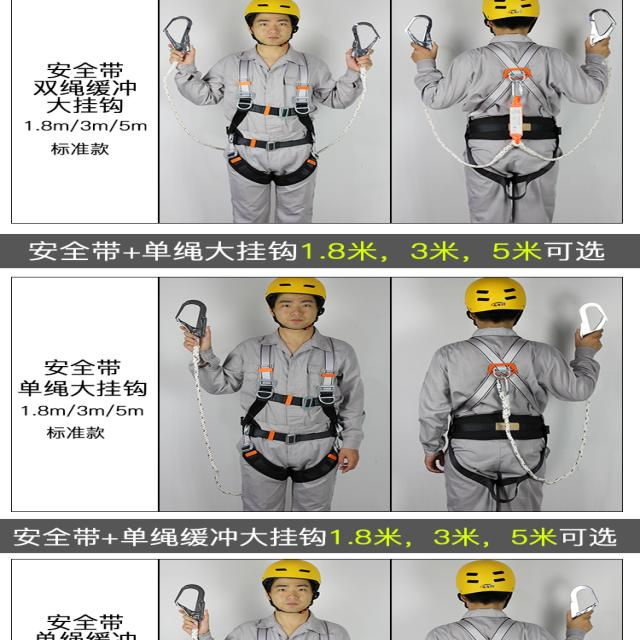Harness: (445, 332, 558, 497), (228, 336, 350, 480), (222, 45, 335, 187), (470, 38, 568, 192), (172, 298, 218, 350), (572, 301, 612, 350), (162, 14, 198, 62), (172, 582, 212, 625), (347, 20, 381, 70), (403, 13, 440, 57), (566, 583, 602, 626), (585, 8, 618, 52)
No_Glasses: (272, 582, 310, 597), (276, 298, 315, 311), (256, 17, 290, 29)
